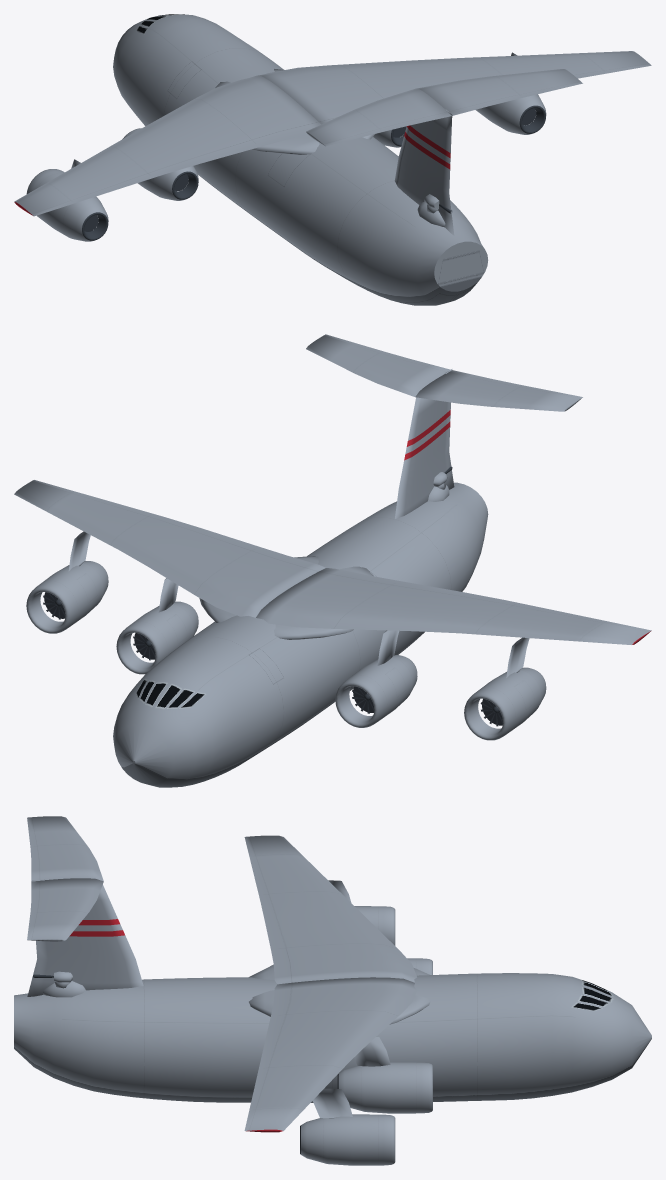
The model's file is giant-transport-mid.glb.
3 renders of one model, top to bottom at view 1: azimuth 30°, elevation 25°; view 2: azimuth 150°, elevation 25°; view 3: azimuth 270°, elevation 25°, orthographic. The views are drawn at different scales.
Visible parts, largest first — view 1: TransportHull; view 2: TransportHull; view 3: TransportHull.
Boxes of the visible parts, x1,y1,x2,y2 form: TransportHull: (14,14,651,305); TransportHull: (14,334,651,787); TransportHull: (14,816,651,1165).
Bounding box in the file's own units: 48 × 16.59 × 44.
4 materials, 2 textured.
